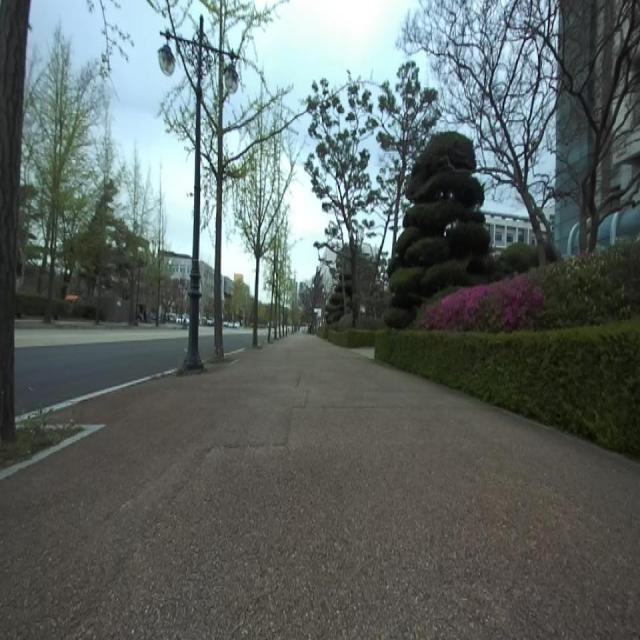sidewalk: (0, 335, 640, 639), (14, 367, 180, 423), (14, 370, 176, 423), (224, 348, 244, 356)
